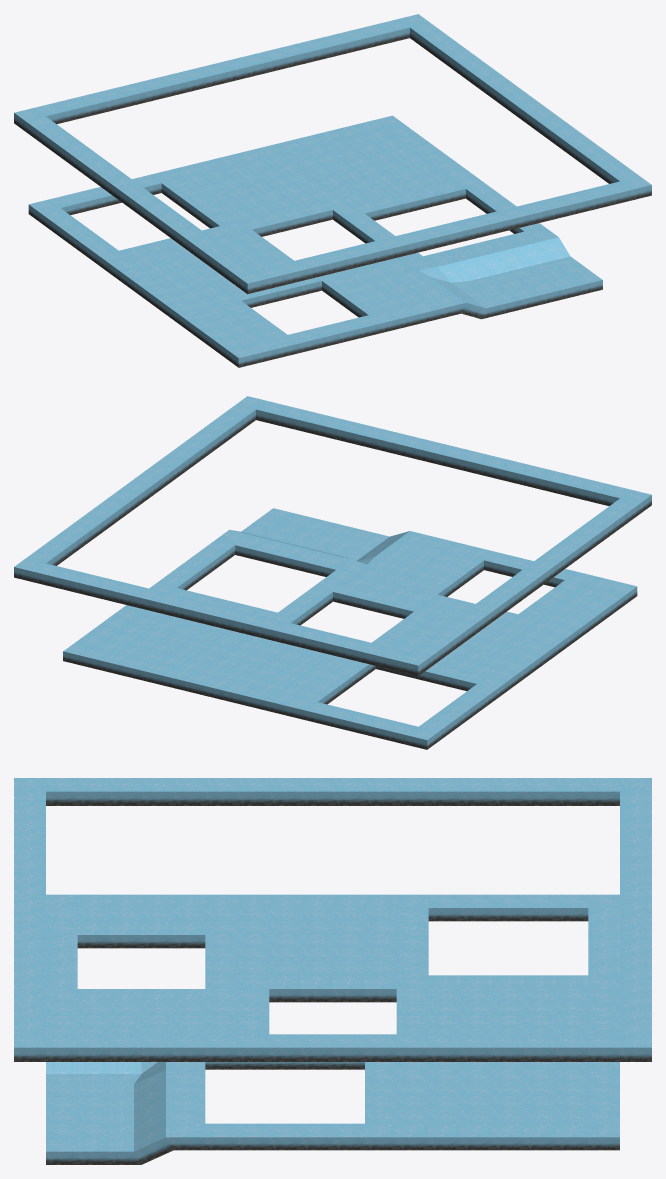
File: Stage_Block_3_5_2F 1.fbx
3 views of the same model, one above another, from view 1: azimuth 30°, elevation 25°; view 2: azimuth 150°, elevation 25°; view 3: azimuth 270°, elevation 25° (orthographic). The views are drawn at different scales.
Visible parts, largest first — view 1: group25_Winter_Block12, polySurface180; view 2: group25_Winter_Block12, polySurface180; view 3: group25_Winter_Block12, polySurface180.
Boxes of the visible parts, left/top/right/bottom form: group25_Winter_Block12: left=28, top=115, right=602, bottom=367; polySurface180: left=14, top=14, right=651, bottom=294; group25_Winter_Block12: left=63, top=508, right=637, bottom=749; polySurface180: left=14, top=396, right=651, bottom=676; group25_Winter_Block12: left=46, top=894, right=619, bottom=1164; polySurface180: left=14, top=778, right=651, bottom=1061.
Bounding box in the file's own units: 4000 × 984 × 4000.
Materials: 1 (1 with a texture image).
